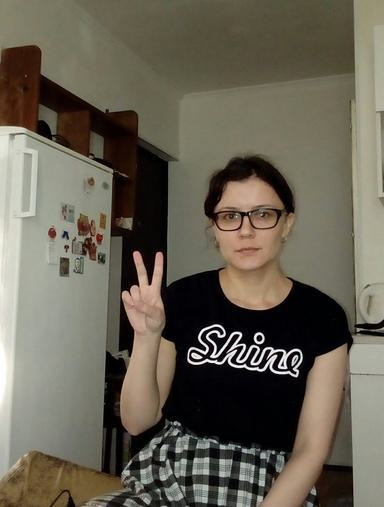peace: (118, 247, 169, 338)
